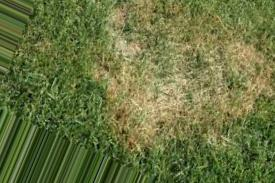patch: (187, 44, 262, 107), (116, 74, 168, 134)
